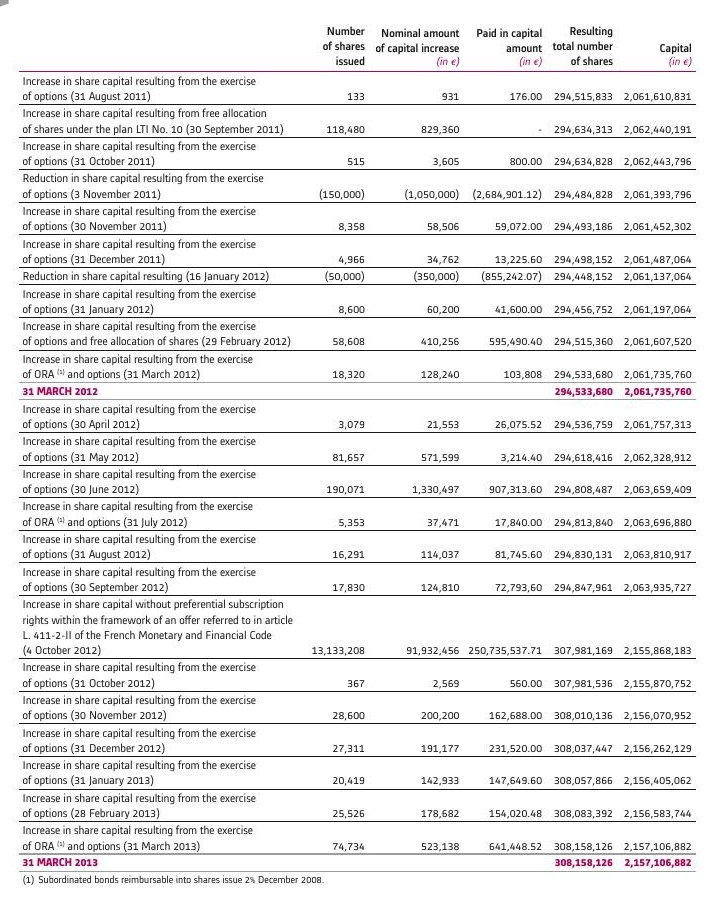table: (0, 0, 723, 900)
